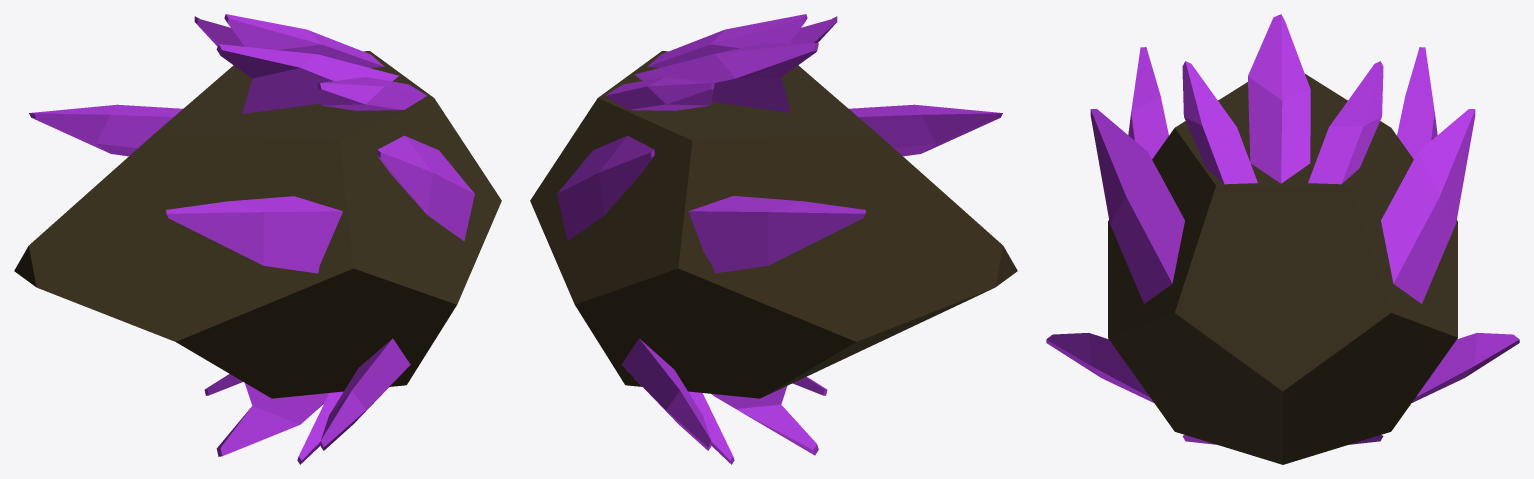
File: meteor3.fbx
The picture shows the model from 3 angles, left to right: view 1: azimuth 30°, elevation 25°; view 2: azimuth 150°, elevation 25°; view 3: azimuth 270°, elevation 25°; orthographic projection. The views are drawn at different scales.
Parts seen in each view (by area): view 1: Meteor.002; view 2: Meteor.002; view 3: Meteor.002.
Boxes of the visible parts, <box> form: Meteor.002: <box>14,14,501,464</box>; Meteor.002: <box>530,14,1017,464</box>; Meteor.002: <box>1046,14,1519,464</box>.
Bounding box in the file's own units: 217 × 189 × 190.
